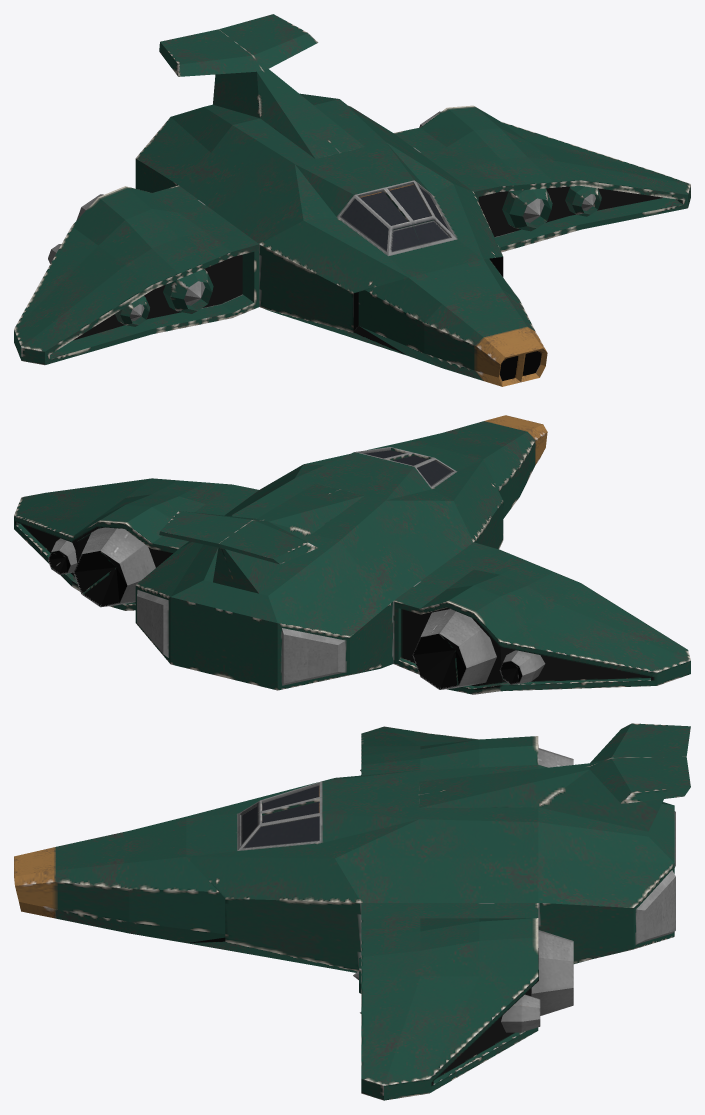
File: SpaceShip_game.fbx
The picture shows the model from 3 angles, top to bottom: view 1: azimuth 30°, elevation 25°; view 2: azimuth 150°, elevation 25°; view 3: azimuth 270°, elevation 25°; orthographic projection. The views are drawn at different scales.
Visible parts, largest first — view 1: Cube; view 2: Cube; view 3: Cube.
Part boxes in pixels (bbox=[...]): Cube: bbox=[14, 14, 690, 386]; Cube: bbox=[14, 415, 690, 694]; Cube: bbox=[14, 723, 690, 1100].
Size of the model in its own units: 1657 by 368 by 1319.
